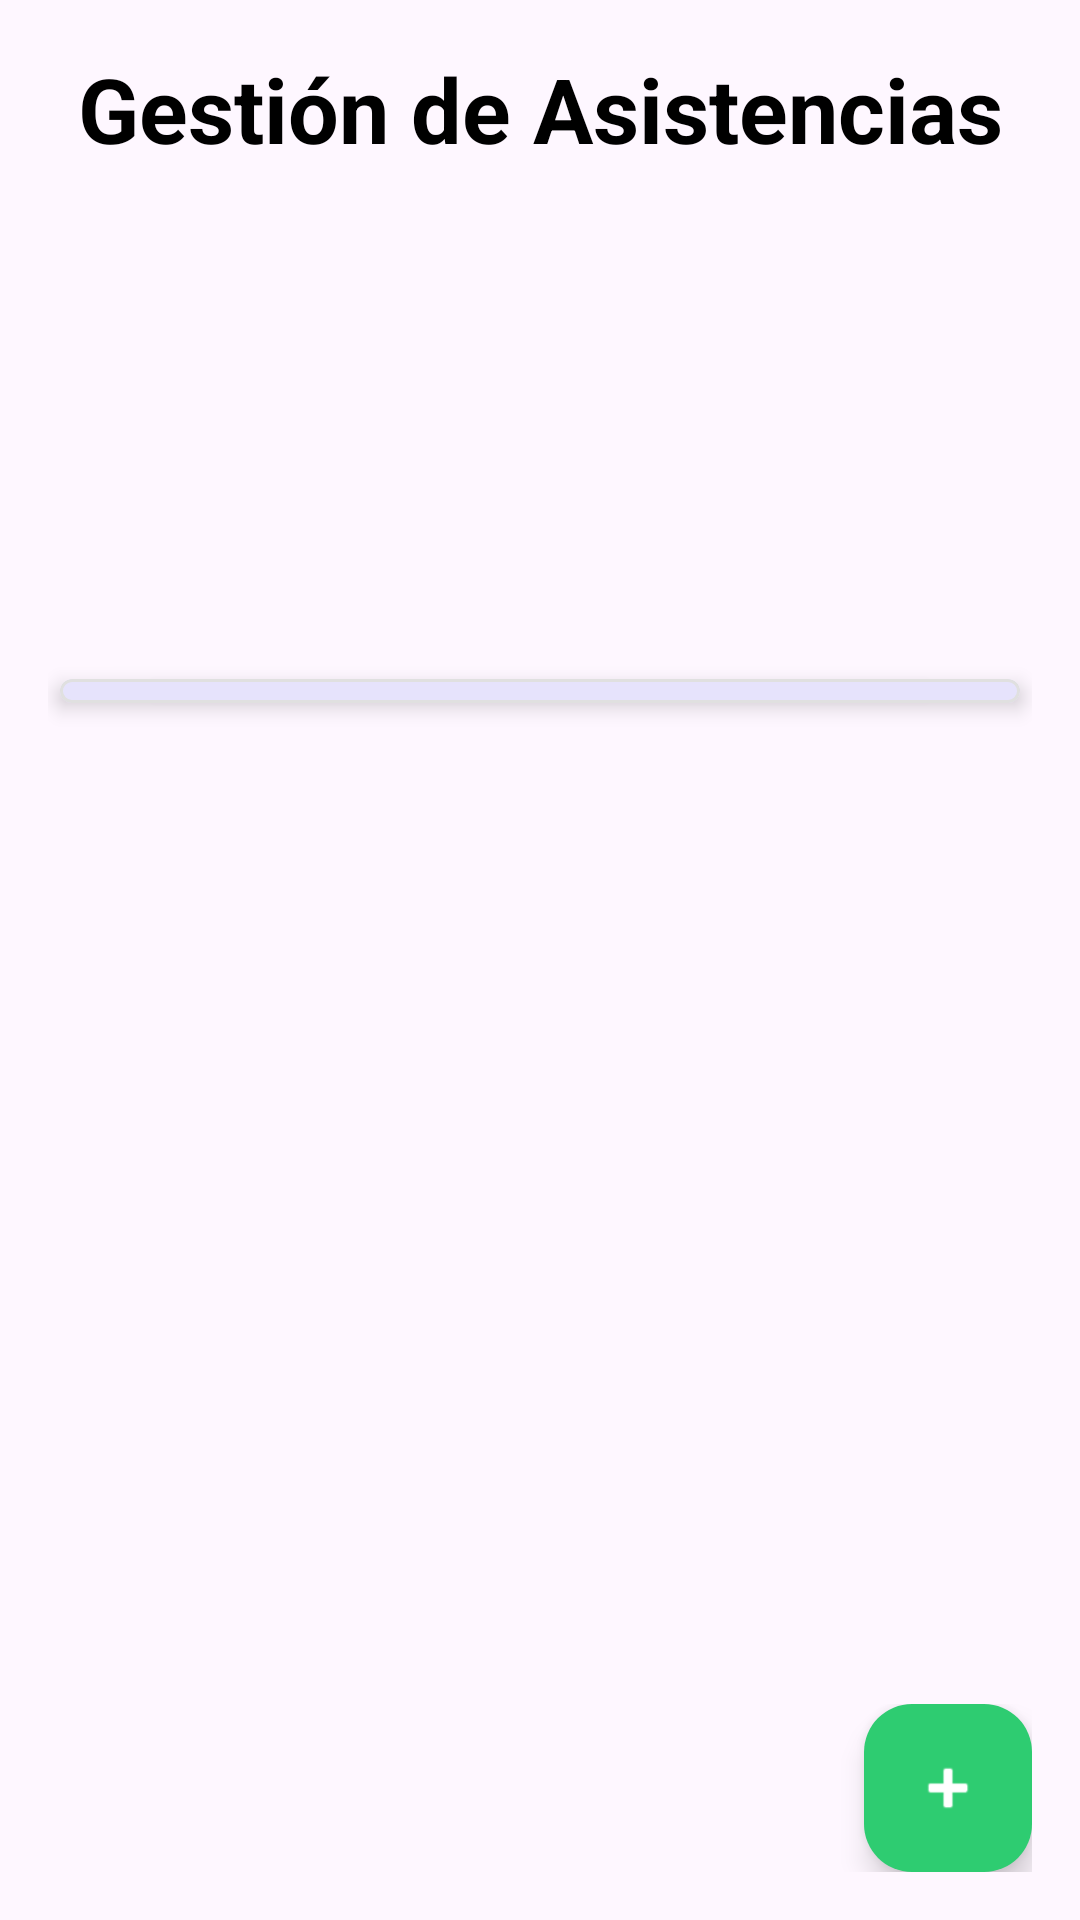

Named icons in this screenshot (1080*1920) and their bounding boxes, rect(x1, y1, x2, y2):
Agregar asistencia manual: rect(864, 1704, 1032, 1872)
